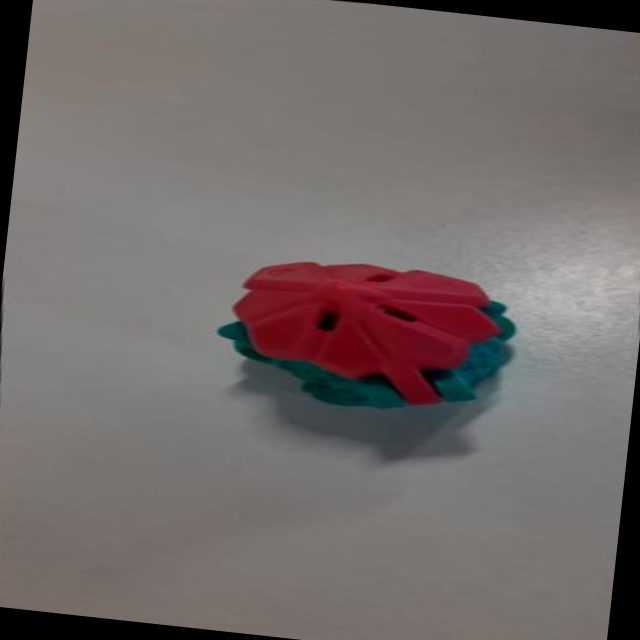House: (201, 233, 545, 437)
